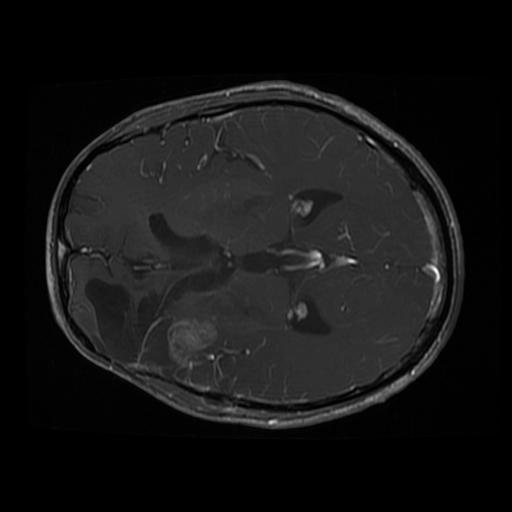glioma: (82, 275, 241, 392)
